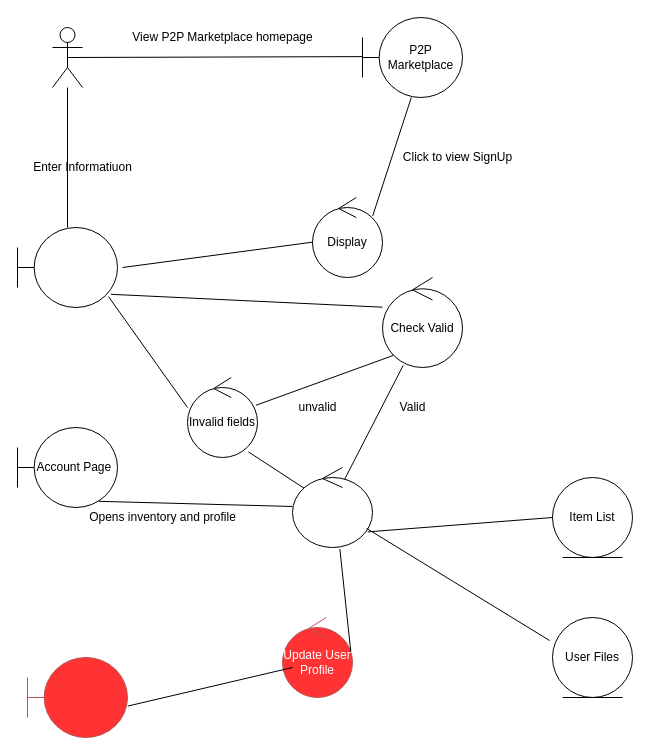
The diagram is 650 pixels wide and 755 high, and some of its shapes have lost their labels. The shapes that lost their labels are listed below. From the top down, each one's box as (x1, y1, x2, y2) in pixels, then its label:
(52, 26, 82, 88): Seller
(16, 226, 118, 308): Signup Page
(292, 466, 372, 548): Display Account Informatrion
(26, 656, 128, 738): Account Page not Found
